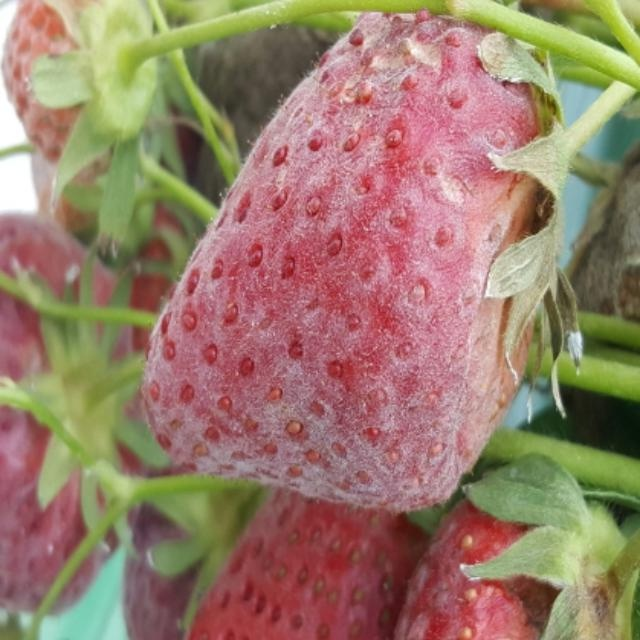Powdery Mildew Fruit: (138, 9, 563, 511), (393, 463, 613, 638)
